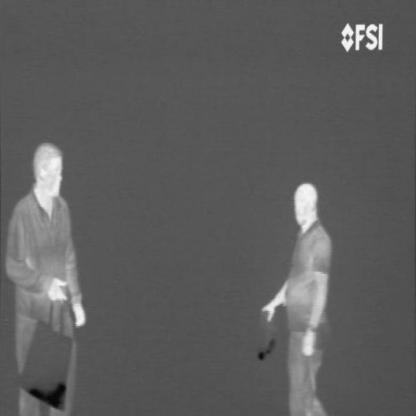weapon: (27, 377, 67, 412)
